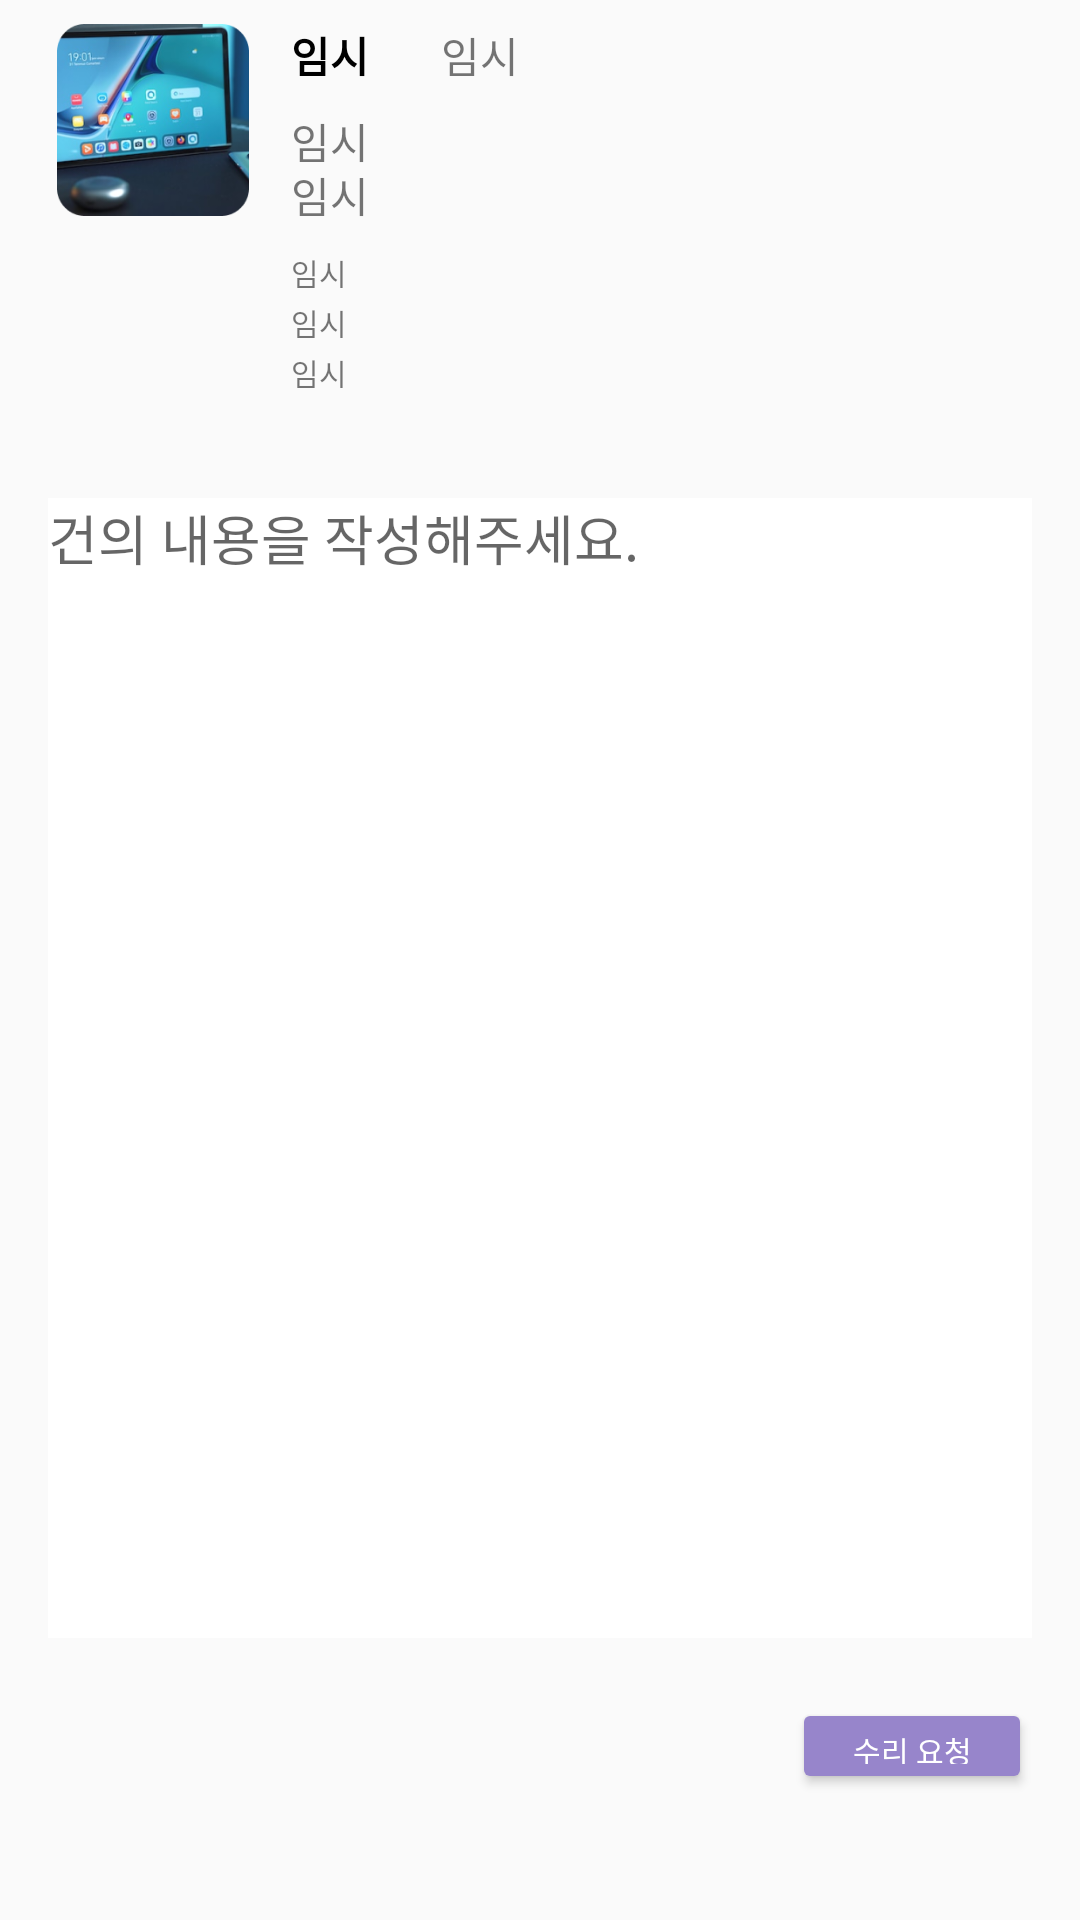

Icon click points for this 1080*1920 phone screenshot, format [x,y]:
pad: [153,120]
